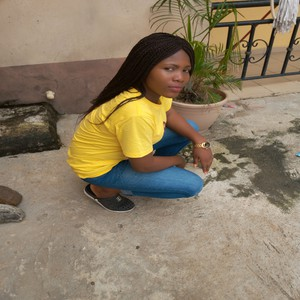Fulokoja_female_student: (114, 37, 198, 197)
